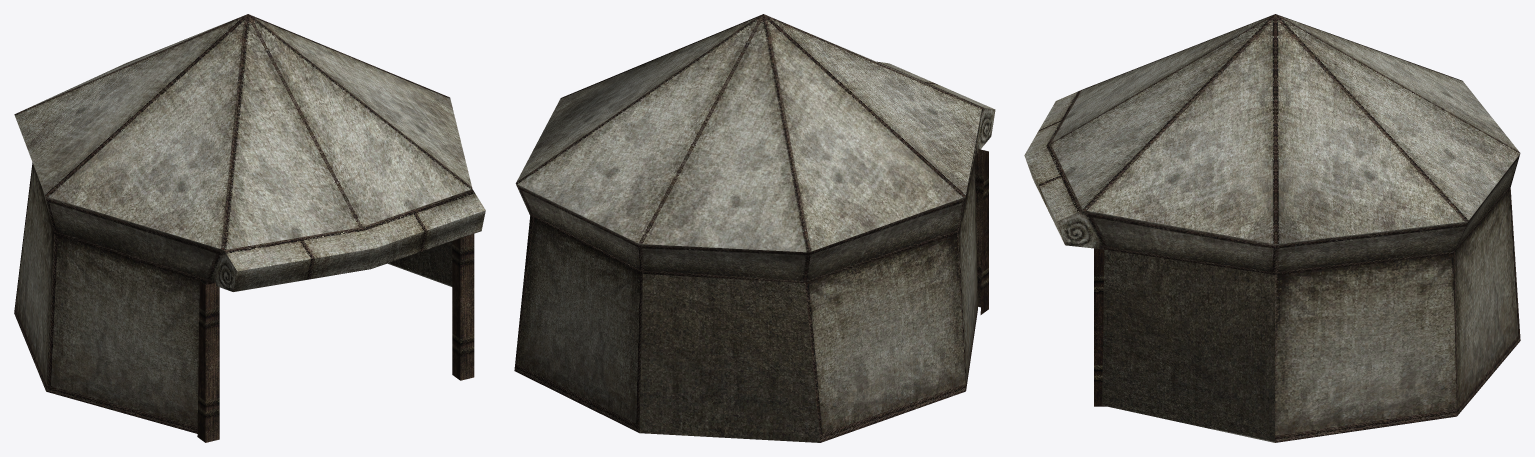
File: ep_general_obj_03.fbx
The picture shows the model from 3 angles, left to right: view 1: azimuth 30°, elevation 25°; view 2: azimuth 150°, elevation 25°; view 3: azimuth 270°, elevation 25°; orthographic projection.
Parts seen in each view (by area): view 1: ep_general_obj_03; view 2: ep_general_obj_03; view 3: ep_general_obj_03.
Boxes of the visible parts, left/top/right/bottom form: ep_general_obj_03: left=14, top=14, right=485, bottom=442; ep_general_obj_03: left=514, top=14, right=995, bottom=442; ep_general_obj_03: left=1024, top=14, right=1520, bottom=442.
Bounding box in the file's own units: 6.72 × 5.1 × 7.01.
